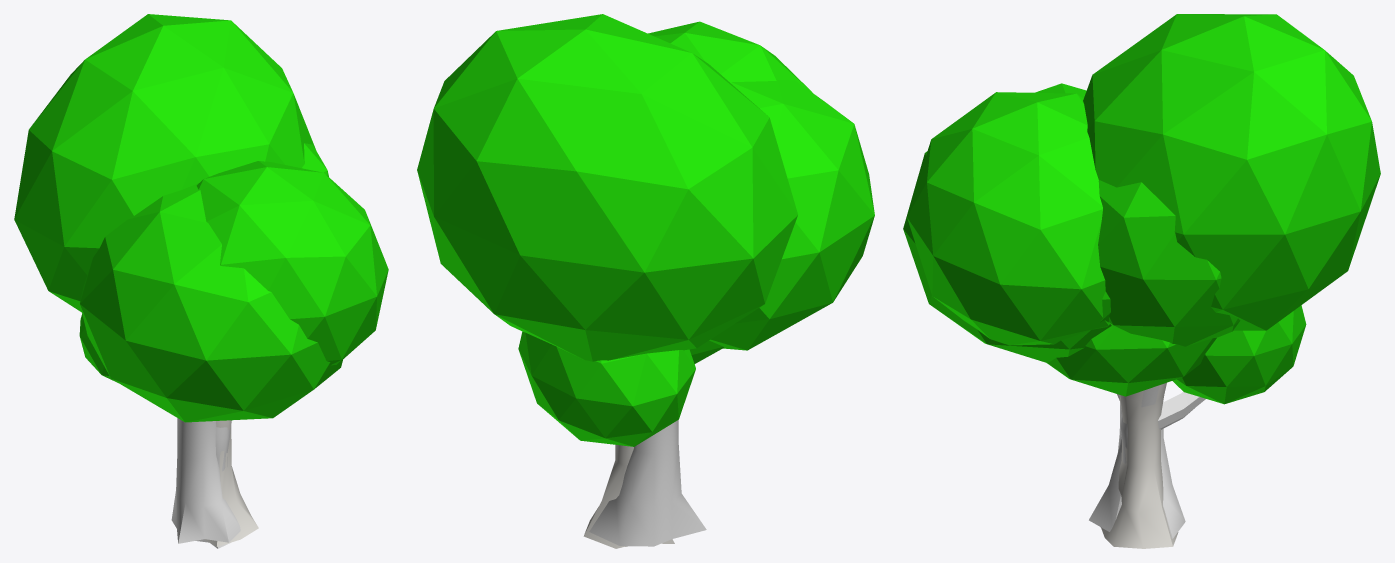
The model's file is tree.glb.
3 views of the same model, side by side, from view 1: azimuth 30°, elevation 25°; view 2: azimuth 150°, elevation 25°; view 3: azimuth 270°, elevation 25° (orthographic). The views are drawn at different scales.
Visible parts, largest first — view 1: Icosphere, squirl1.001, squirl1.002; view 2: Icosphere, squirl1.001, squirl1.002; view 3: Icosphere, squirl1.001, squirl1.002.
Boxes of the visible parts, x1=… form: Icosphere: x1=14, y1=14, x2=388, y2=543; squirl1.001: x1=80, y1=143, x2=342, y2=546; squirl1.002: x1=79, y1=314, x2=230, y2=548; Icosphere: x1=417, y1=14, x2=812, y2=546; squirl1.001: x1=583, y1=80, x2=874, y2=548; squirl1.002: x1=518, y1=331, x2=723, y2=546; Icosphere: x1=907, y1=14, x2=1380, y2=538; squirl1.001: x1=903, y1=83, x2=1240, y2=548; squirl1.002: x1=1047, y1=305, x2=1306, y2=527.
Size of the model in its own units: 14.16 by 23.41 by 19.6.
